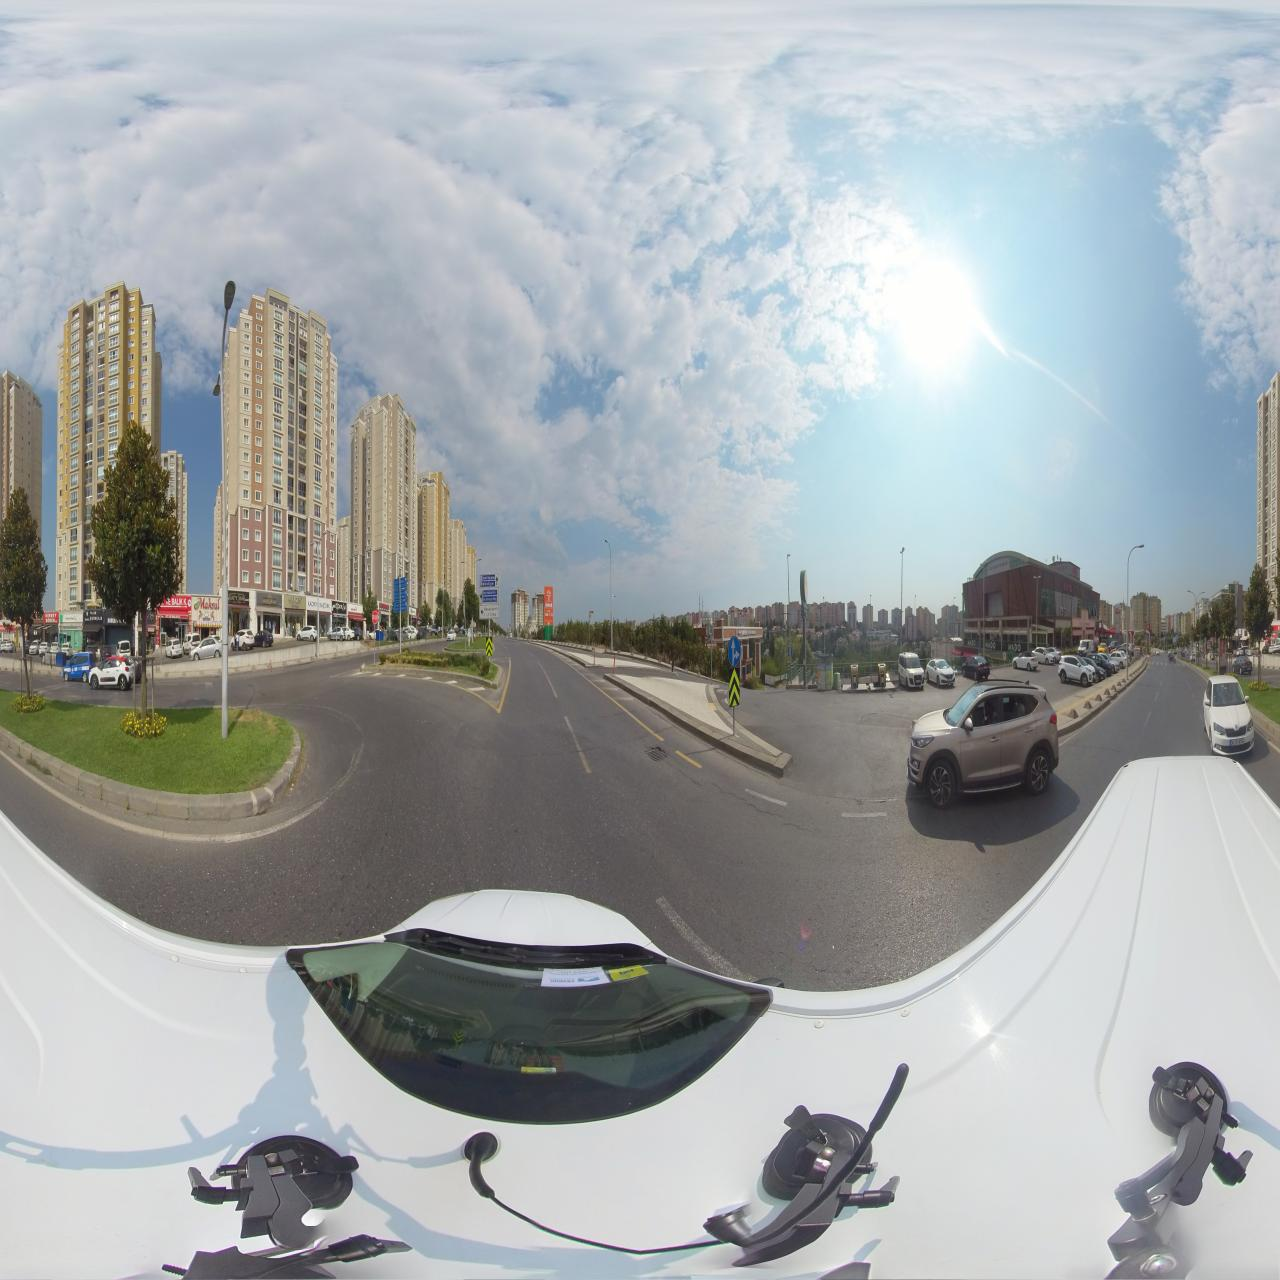SignStore: (192, 595, 222, 621), (257, 591, 282, 607), (227, 590, 250, 606), (284, 594, 306, 610), (82, 610, 103, 624), (1002, 642, 1028, 652), (60, 614, 82, 622), (319, 598, 332, 612), (306, 595, 318, 611), (43, 612, 59, 624), (347, 602, 363, 613), (985, 640, 1001, 651), (736, 628, 756, 636), (964, 639, 980, 648), (338, 601, 347, 614), (380, 602, 389, 613), (332, 600, 336, 613), (411, 607, 416, 615), (409, 607, 411, 614)
